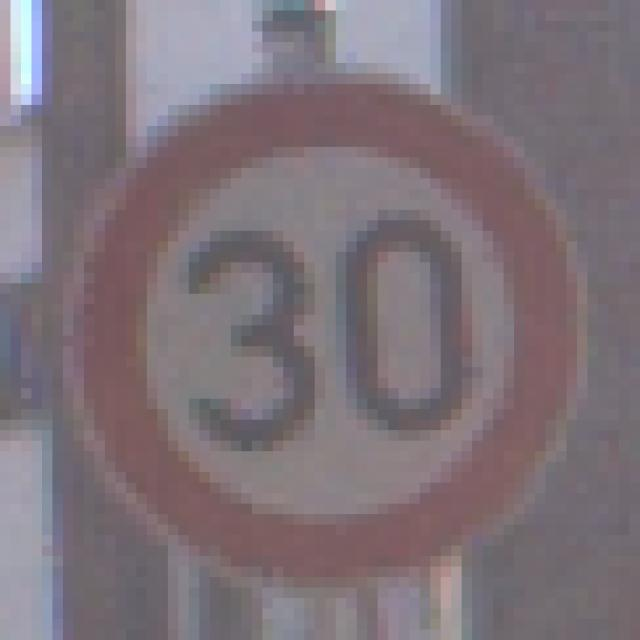Speed Limit -30-: (52, 63, 566, 577)
